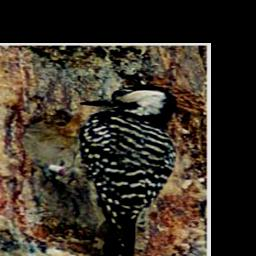Woodpecker: (28, 78, 186, 256)
